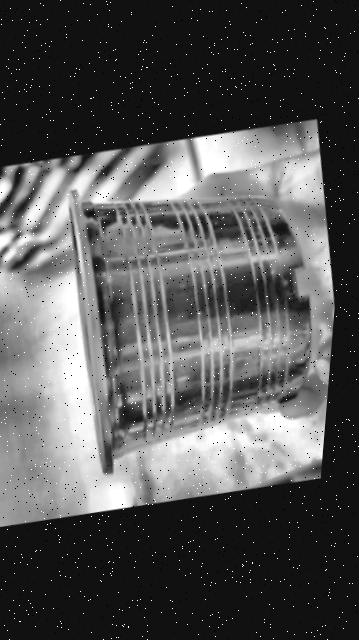pot: (68, 191, 309, 472)
